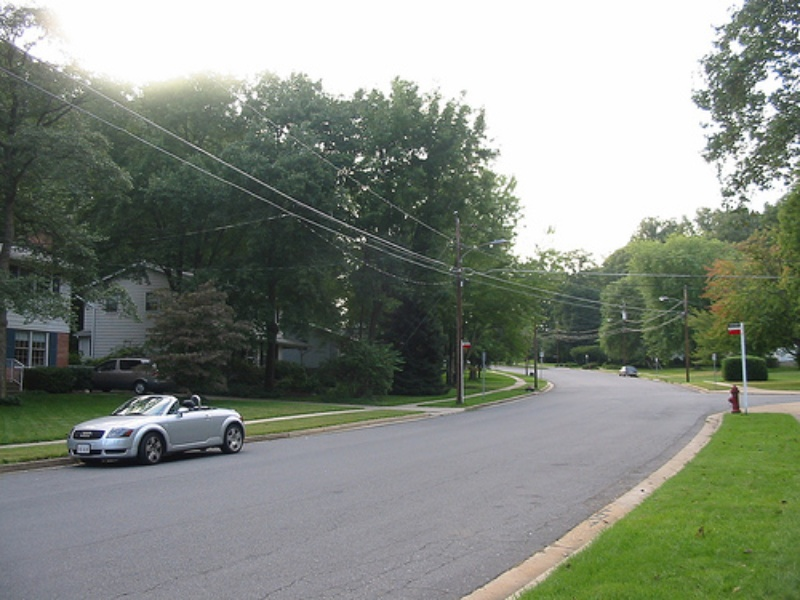car: (66, 394, 245, 463), (92, 357, 178, 394)
